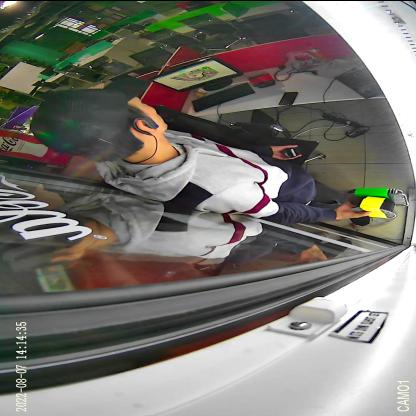green: (348, 187, 410, 205)
yellow: (350, 194, 398, 218)
